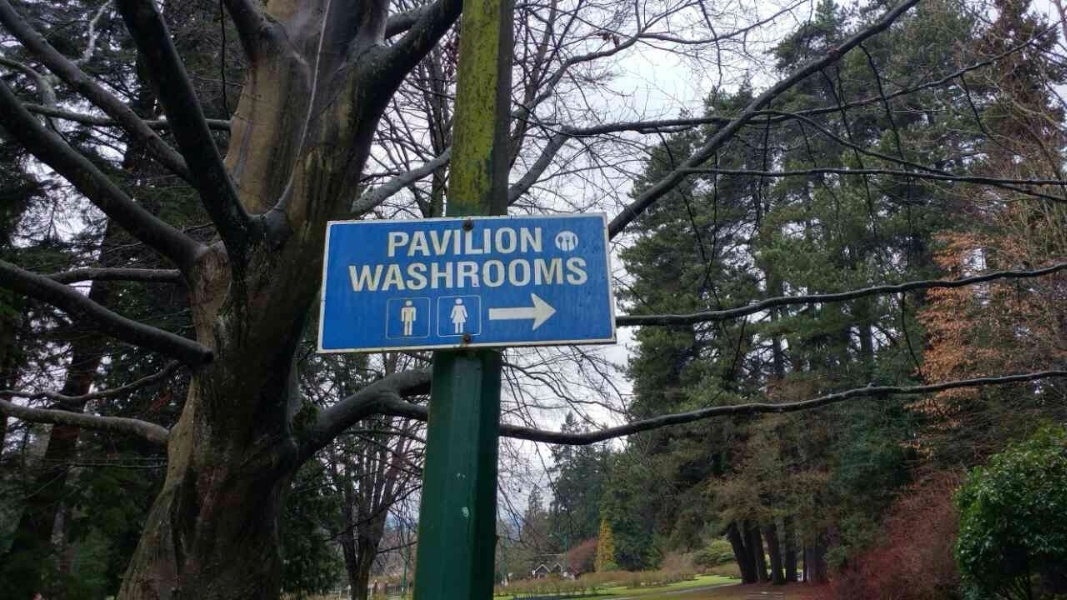text: (353, 256, 368, 292), (369, 256, 384, 292), (385, 256, 400, 292), (401, 256, 416, 292), (417, 256, 432, 292), (433, 256, 448, 292), (449, 256, 464, 292), (465, 256, 480, 292), (481, 256, 496, 292), (497, 256, 512, 292), (513, 256, 528, 292), (529, 256, 544, 292), (545, 256, 560, 292), (561, 256, 576, 292), (529, 226, 545, 258), (401, 226, 416, 258), (417, 226, 432, 258), (433, 226, 448, 258), (449, 226, 464, 258), (465, 226, 480, 258), (481, 226, 496, 258), (497, 226, 512, 258), (513, 226, 528, 258), (577, 256, 590, 292), (387, 226, 400, 258), (348, 256, 352, 292)
